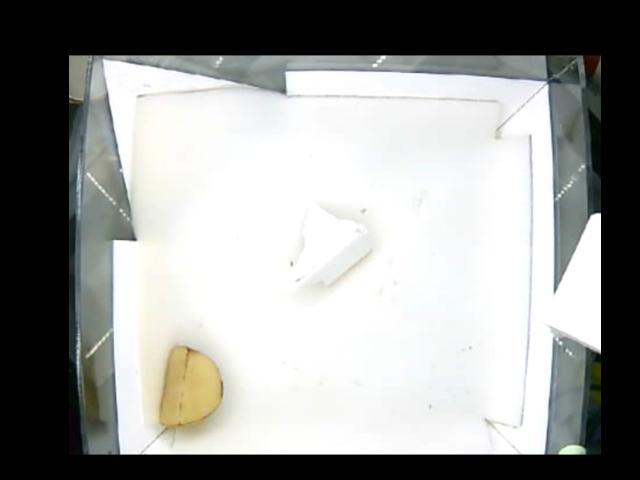China: (282, 201, 374, 299)
Potato: (157, 343, 223, 426)
